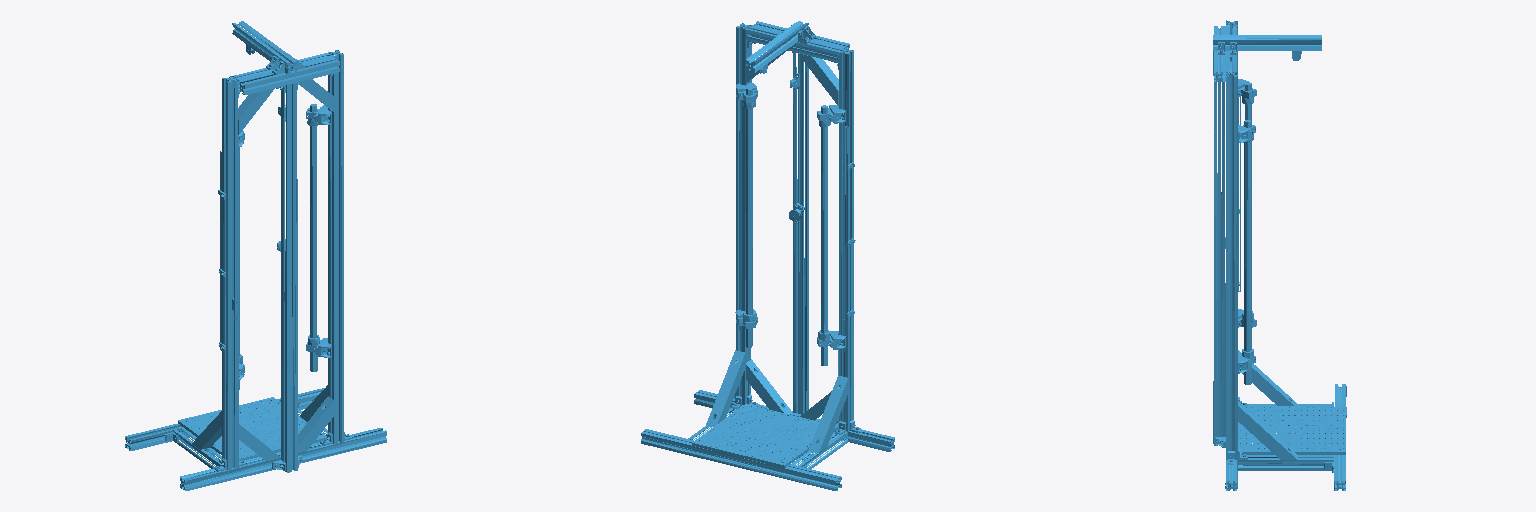
robot.urdf — draco:
<?xml version="1.0" ?>
<robot name="draco" xmlns:xacro="http://ros.org/wiki/xacro">

    <link name="world"/>
    
    <joint name="ground_joint" type="floating">
        <origin xyz="0 0 0.15" rpy="0 0 0" />
        <parent link="world" />
        <child link="hori_stage" />
    </joint>


    <link name="hori_stage">
        <inertial>
            <origin rpy="0 0 0" xyz="0 0 0"/>
            <mass value="11.313"/>
            <inertia ixx="0.25" ixy="-0.002" ixz="0.006" iyy="0.268" iyz="0.002" izz="0.114"/>
        </inertial>
        <visual>
            <origin rpy="1.57 0 1.570" xyz = "-0.5 -0.50 0.015"/>
            <geometry>
                <mesh filename="meshes/horiStage_edit.stl" scale="0.001 0.001 0.001"/>
            </geometry>
        </visual>
        <collision>
            <!--<origin rpy="1.57 0 0" xyz = "-0.27 0.139 -0.115"/>-->
            <origin rpy="1.57 0 1.570" xyz = "-0.50 -0.50 0.015"/>
            <geometry>
                <mesh filename="meshes/horiStage_edit.stl" scale="0.001 0.001 0.001"/>
            </geometry>
        </collision>
    </link>

    <joint name="hori-vertical" type="continuous">
        <origin rpy="0.0 0.0 0.0" xyz="-0.017 -0.3207 1.315"/>
        <axis xyz="0 1 0"/>
        <parent link="hori_stage"/>
        <child link="vertical_stage"/>
    </joint>

    <link name="vertical_stage">
        <inertial>
            <origin rpy="0 0 0" xyz="0.0061 0 -0.00002473"/>
            <mass value="5.4818"/>
            <inertia ixx="0.0777" ixy="-0.0001" ixz="-0.0005" iyy="0.0761" iyz="0.0084" izz="0.0061"/>
        </inertial>
        <visual>
            <origin rpy="-1.570 0.014 0.00" xyz="-0.0 -0.00 0.0"/>
            <geometry>
                <mesh filename="meshes/vertical_plate_edit.3ds" scale="0.001 0.001 0.001"/>
            </geometry>
        </visual>
        <!--<collision>-->
            <!--<origin rpy="0 3.14 -1.57" xyz="-0.0735 -0.087 0.03"/>-->
            <!--<geometry>-->
                <!--<mesh filename="meshes/upperLeg.STL" scale="0.001 0.001 0.001"/>-->
            <!--</geometry>-->
        <!--</collision>-->
    </link>

    <!--<joint name="kneePitch" type="continuous">-->
        <!--<origin rpy="0.0 0.0 0.0" xyz="0 0 -0.49"/>-->
        <!--<axis xyz="0 1 0"/>-->
        <!--<parent link="upperLeg"/>-->
        <!--<child link="lowerLeg"/>-->
    <!--</joint>-->

    <!--<link name="lowerLeg">-->
        <!--<inertial>-->
            <!--<origin rpy="0 0 0" xyz="-0.0038 -0.0022 -0.2647"/>-->
            <!--<mass value="3.7701"/>-->
            <!--<inertia ixx="0.0777" ixy="-0.0001" ixz="-0.0005" iyy="0.0761" iyz="0.0084" izz="0.0061"/>-->
        <!--</inertial>-->
        <!--<visual>-->
            <!--<origin rpy="0 0 -1.57" xyz="-0.075 0.05 -0.513"/>-->
            <!--<geometry>-->
                <!--<mesh filename="meshes/lowerLeg.STL" scale="0.001 0.001 0.001"/>-->
            <!--</geometry>-->
        <!--</visual>-->
        <!--<collision>-->
            <!--<origin rpy="0 0 -1.57" xyz="-0.075 0.05 -0.513"/>-->
            <!--<geometry>-->
                <!--<mesh filename="meshes/lowerLeg.STL" scale="0.001 0.001 0.001"/>-->
            <!--</geometry>-->
        <!--</collision>-->
    <!--</link>-->

    <!--<joint name="ankle" type="continuous">-->
        <!--<origin rpy="0.0 0.0 0.0" xyz="0 0 -0.49"/>-->
        <!--<axis xyz="0 1 0"/>-->
        <!--<parent link="lowerLeg"/>-->
        <!--<child link="foot"/>-->
    <!--</joint>-->

    <!--<link name="foot">-->
        <!--<inertial>-->
            <!--<origin rpy="0 0 0" xyz="0.0183 0 -0.0232"/>-->
            <!--<mass value="0.6817573"/>-->
            <!--<inertia ixx="0.001766" ixy="-0.0000003" ixz="0.0000006" iyy="0.0020957" iyz="-0.0001134" izz="0.0004916"/>-->
        <!--</inertial>-->
        <!--<visual>-->
            <!--<origin rpy="1.57 0 1.57" xyz="0 0 0"/>-->
            <!--<origin rpy="1.57 0 1.57" xyz="-0.07 -0.05 -0.03"/>-->
            <!--<geometry>-->
                <!--<mesh filename="meshes/foot.STL" scale="0.001 0.001 0.001"/>-->
            <!--</geometry>-->
        <!--</visual>-->
        <!--<collision>-->
            <!--<origin rpy="1.57 0 1.57" xyz="-0.07 -0.05 -0.03"/>-->
            <!--<geometry>-->
                <!--<mesh filename="meshes/foot.STL" scale="0.001 0.001 0.001"/>-->
            <!--</geometry>-->
        <!--</collision>-->
    <!--</link>-->


</robot>

--- Facts derived from the render (not from the file) ---
Views: 3 orthographic renders of the robot side by side, from view 1: azimuth 30°, elevation 25°; view 2: azimuth 150°, elevation 25°; view 3: azimuth 270°, elevation 25°.
Model draco with 3 links and 2 joints (1 continuous, 1 floating), rooted at world, posed all joints at 0.
Visible links, largest first — view 1: hori_stage; view 2: hori_stage; view 3: hori_stage.
Link boxes in pixels (x1,y1,x2,y2): hori_stage: (125, 21, 386, 490); hori_stage: (641, 21, 894, 490); hori_stage: (1213, 20, 1346, 490).
Bounding box of the posed robot: 0.9504 × 0.5506 × 1.85 m (x, y, z).
1 mesh visuals loaded from 2 distinct referenced files (1 binary STL); not drawn: 1 (reference not matched to a file when rendering).